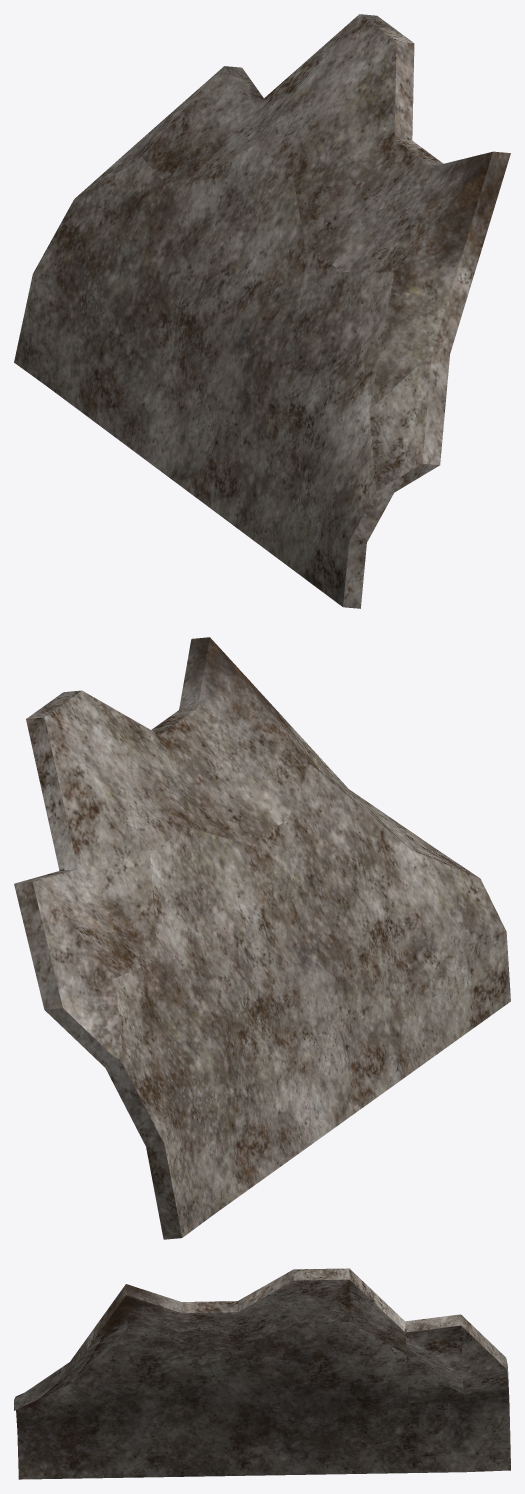
Rendered from SueloEdificio4.obj.
3 views of the same model, one above another, from view 1: azimuth 30°, elevation 25°; view 2: azimuth 150°, elevation 25°; view 3: azimuth 270°, elevation 25° (orthographic). The views are drawn at different scales.
Visible parts, largest first — view 1: Object017; view 2: Object017; view 3: Object017.
Part boxes in pixels (x1,y1,x2,y2): Object017: (14,14,510,608); Object017: (14,637,510,1239); Object017: (14,1268,510,1479).
Size of the model in its own units: 36.66 by 52.05 by 80.51.
1 material, 1 textured.
